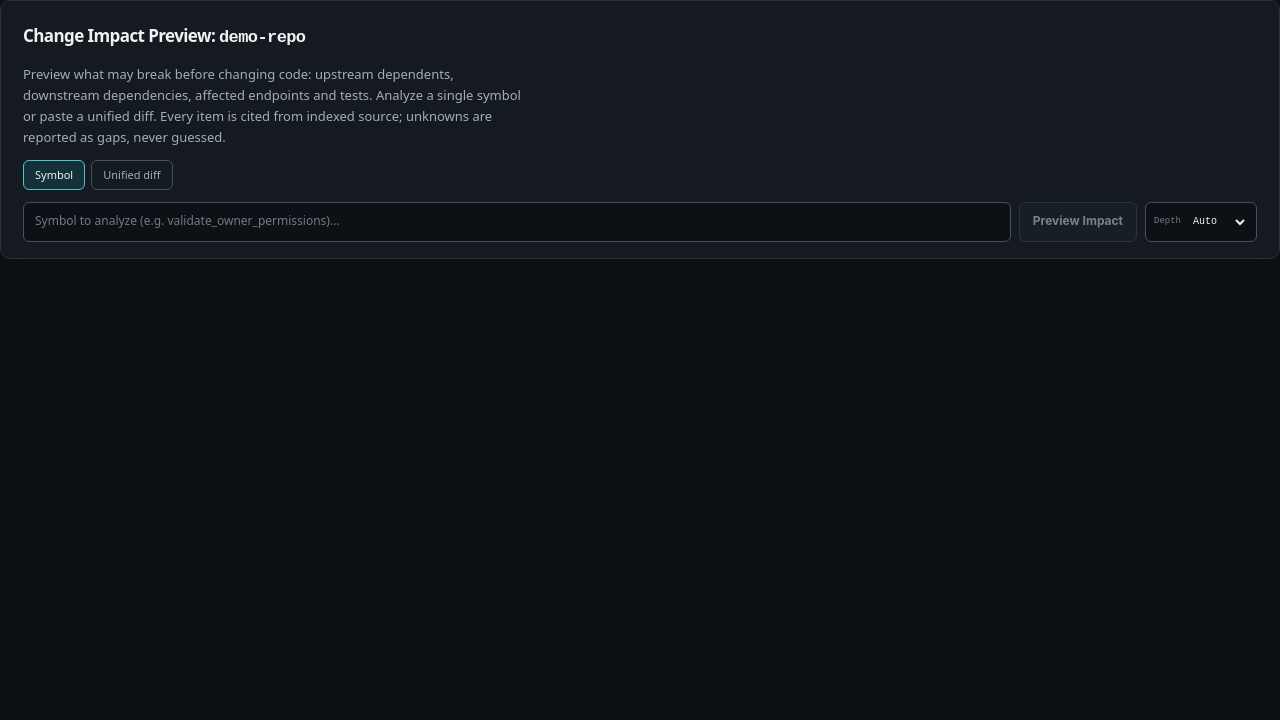
Scenario: ImpactPanel › hides the explain control when explanations are unavailable
In the field named "Impact target symbol": (517, 222) [23,202,1011,242], type "load_stats"
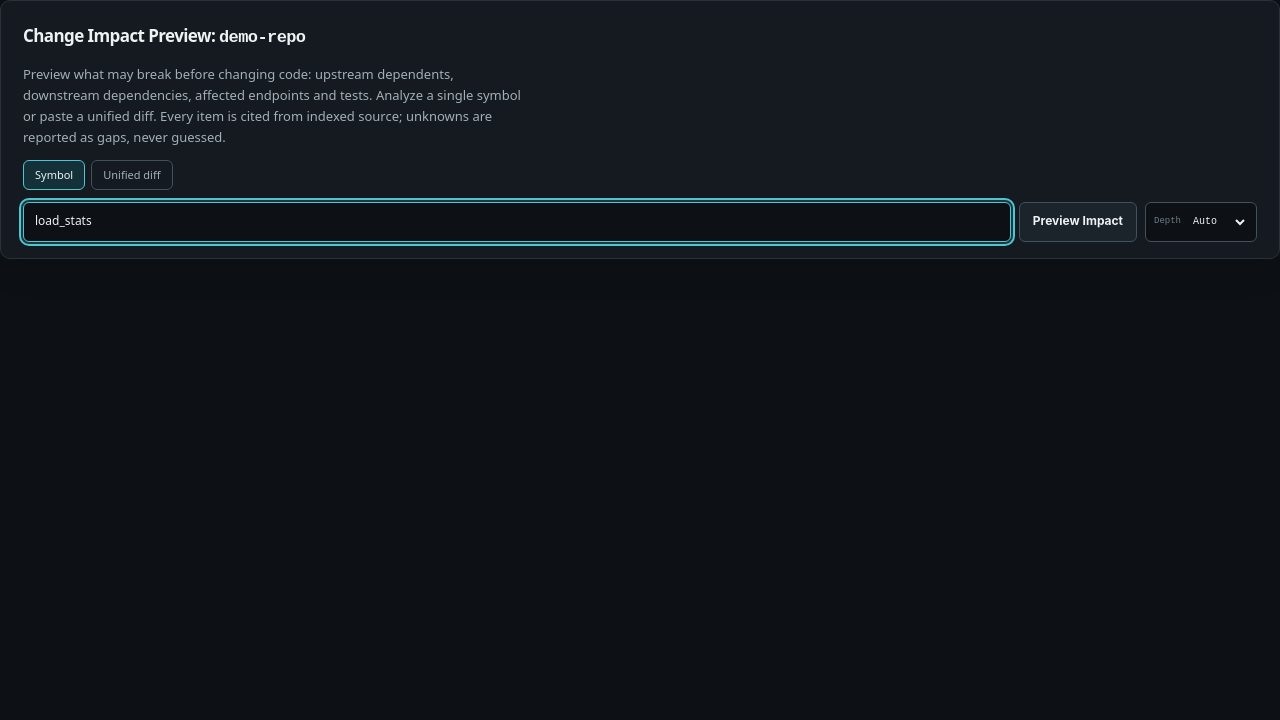
Click the button "Preview Impact": (1078, 222) [1019,202,1137,242]
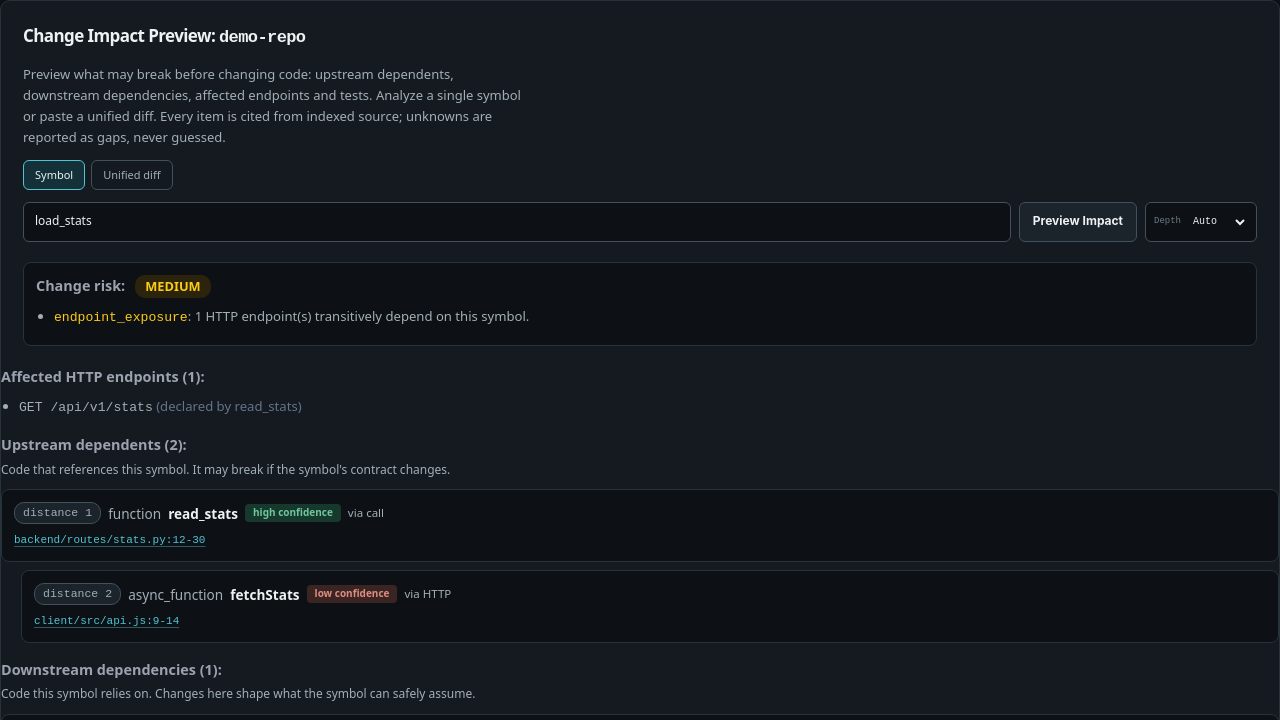
Result: the heading "Upstream dependents (2):" is shown at [1,435,187,454]
